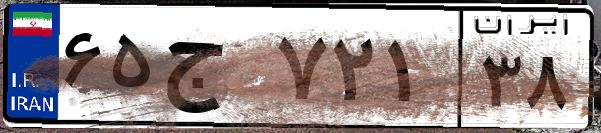1: (385, 28, 445, 110)
2: (330, 28, 385, 110)
3: (475, 38, 525, 113)
5: (110, 28, 158, 98)
6: (57, 26, 110, 100)
7: (270, 28, 330, 110)
8: (525, 38, 570, 115)
ج: (158, 20, 270, 120)
